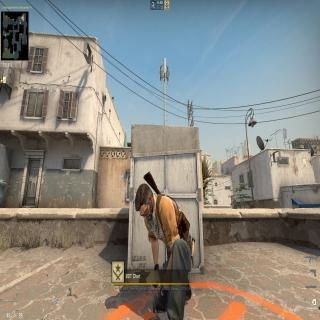T-Head: (134, 183, 157, 224)
